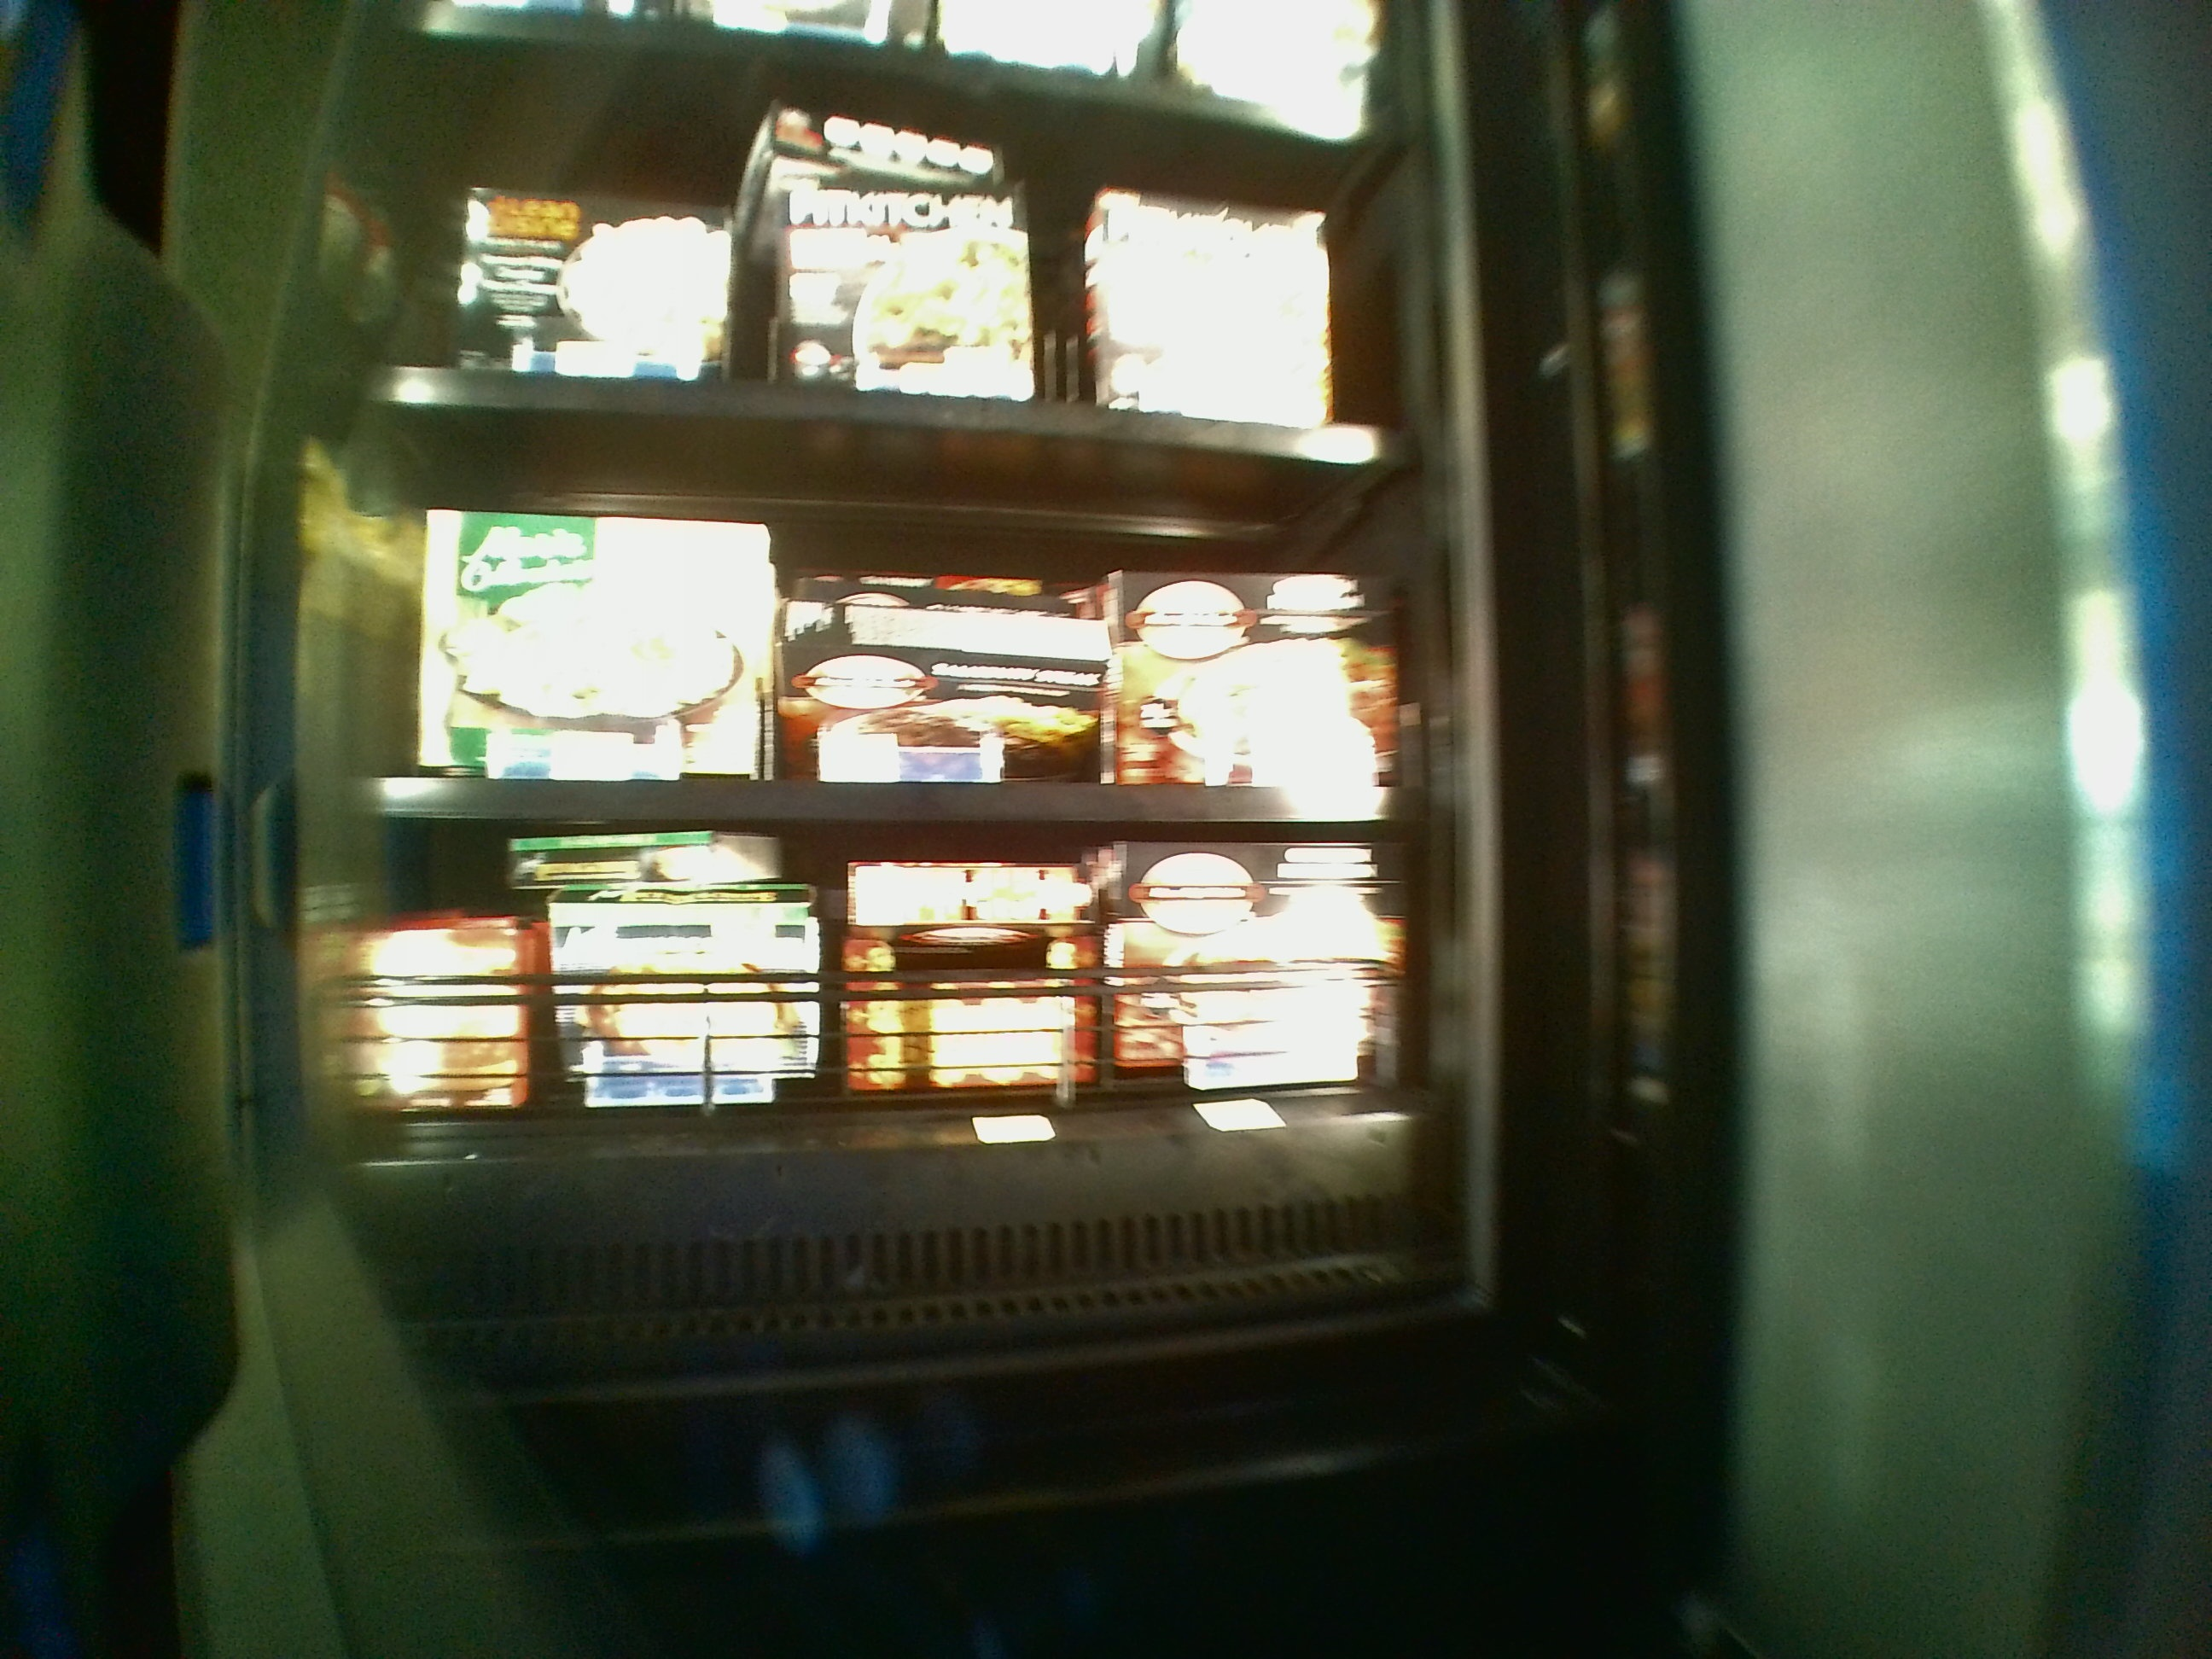shelf: (343, 415, 1439, 829), (348, 836, 1428, 1183), (331, 56, 1416, 397)
